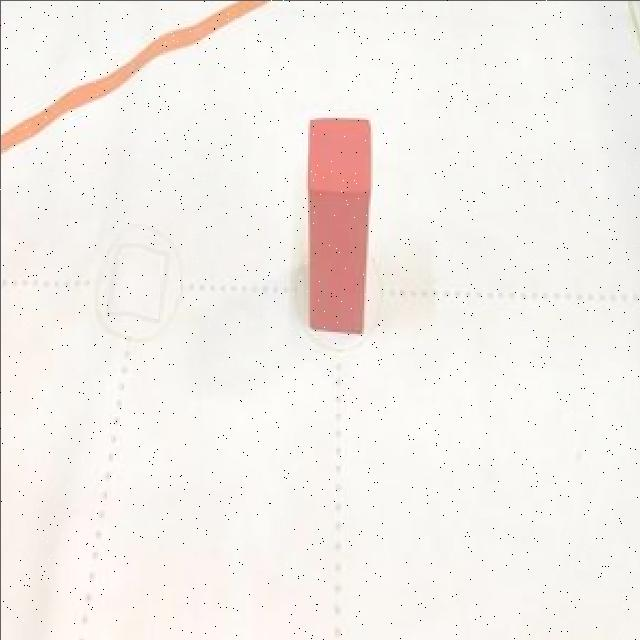redbox: (307, 112, 374, 338)
